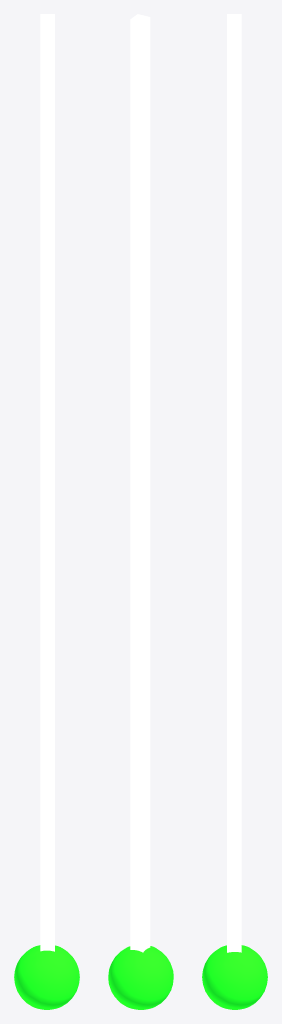
The model's file is NewWebMenuModuliListner3.gltf.
3 views of the same model, side by side, from view 1: azimuth 90°, elevation 25°; view 2: azimuth 150°, elevation 25°; view 3: azimuth 270°, elevation 25° (orthographic).
Visible parts, largest first — view 1: ListnerModuli; view 2: ListnerModuli; view 3: ListnerModuli.
Part boxes in pixels (x1,y1,x2,y2): ListnerModuli: (14,14,79,1009); ListnerModuli: (108,14,173,1009); ListnerModuli: (202,14,267,1009).
Size of the model in its own units: 0.0421 by 0.6987 by 0.0421.
